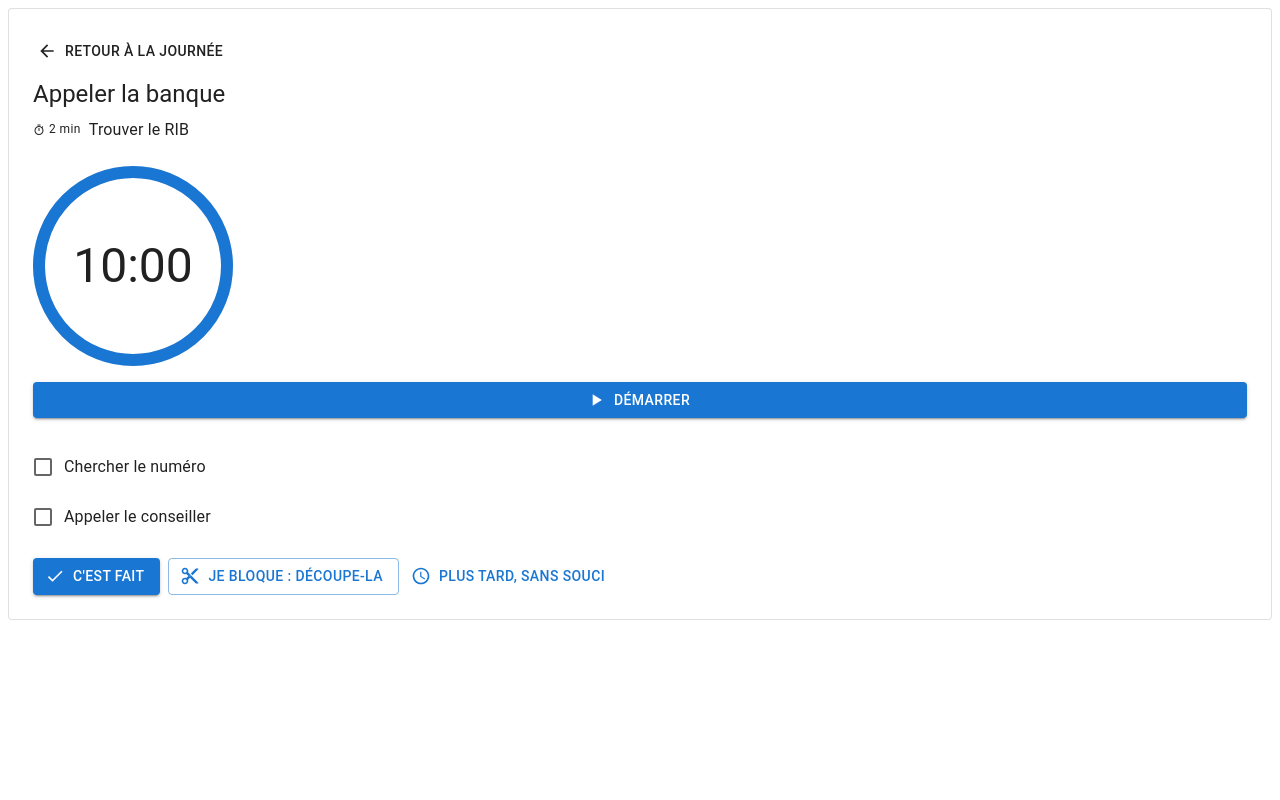
Scenario: TaskFocus (MAG-499) › the timer › resume: it goes on from where it stopped
Click the button "Démarrer": x=640, y=400 [33,382,1247,418]
Wait 60000 ms
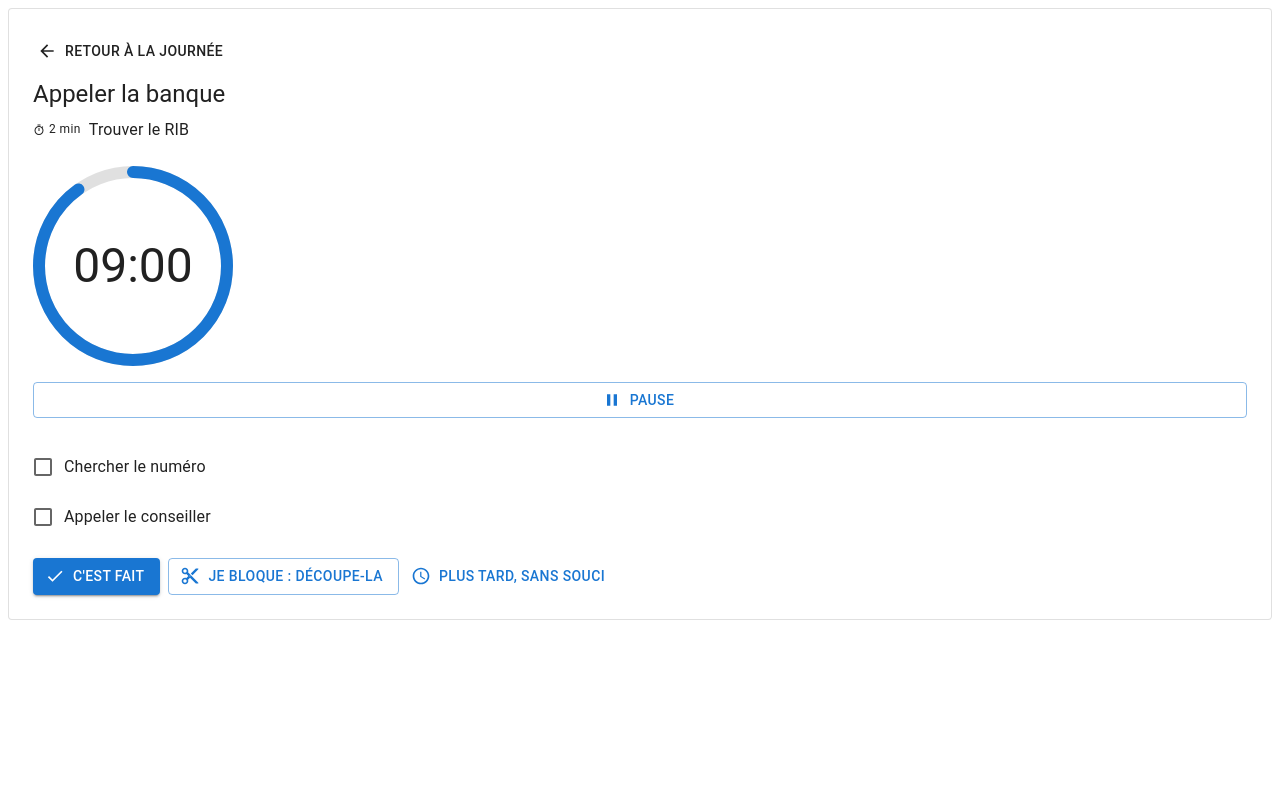
Click the button "Pause": x=640, y=400 [33,382,1247,418]
Wait 120000 ms
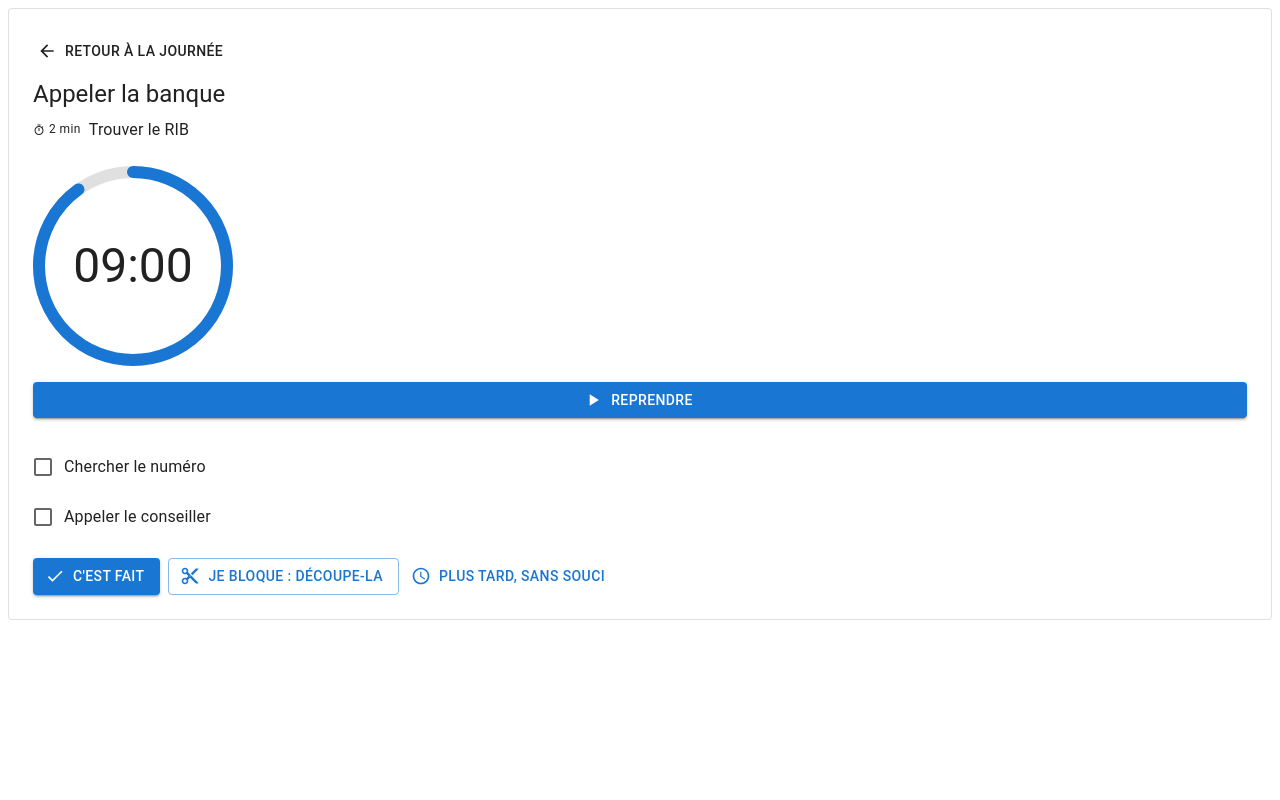
Click the button "Reprendre": x=640, y=400 [33,382,1247,418]
Wait 30000 ms
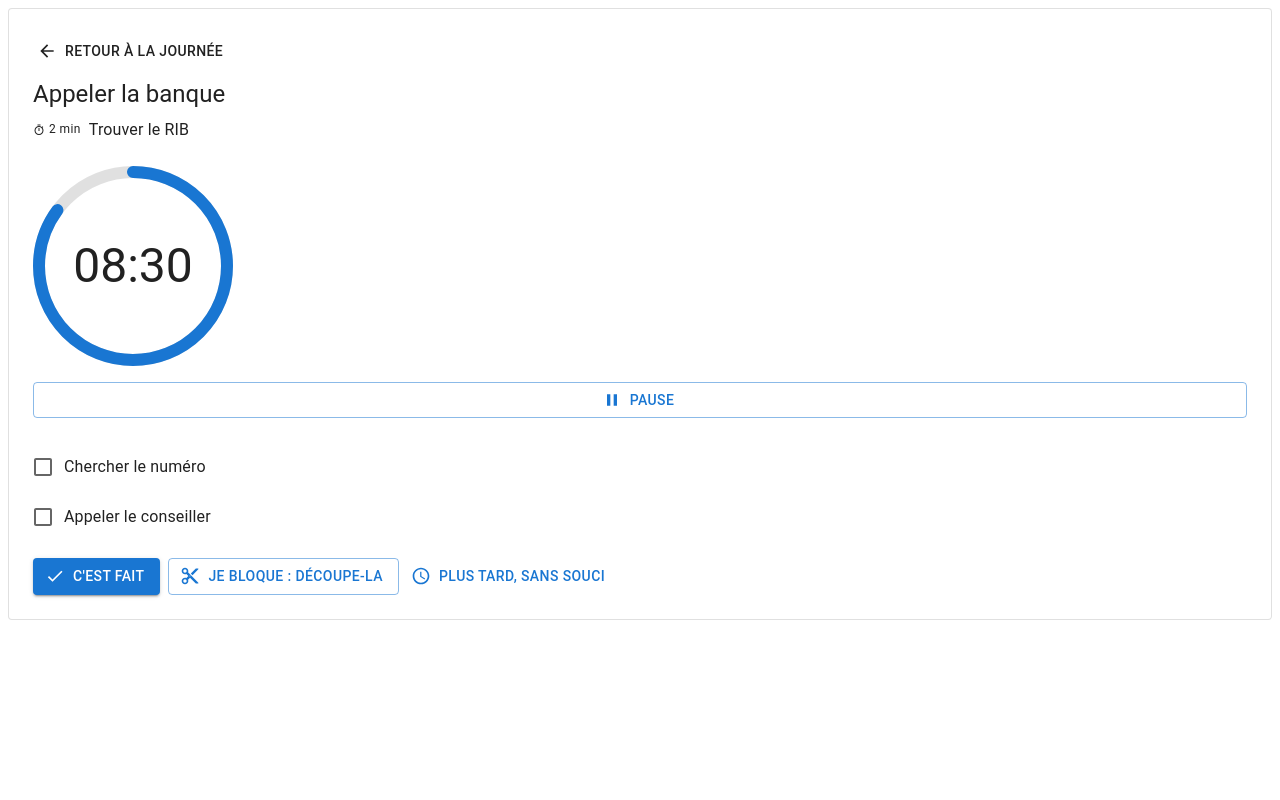
Check: the element named "Minuteur" reads "08:30", box [73,236,193,294]
Check: the button "Pause" is shown, box [33,382,1247,418]
